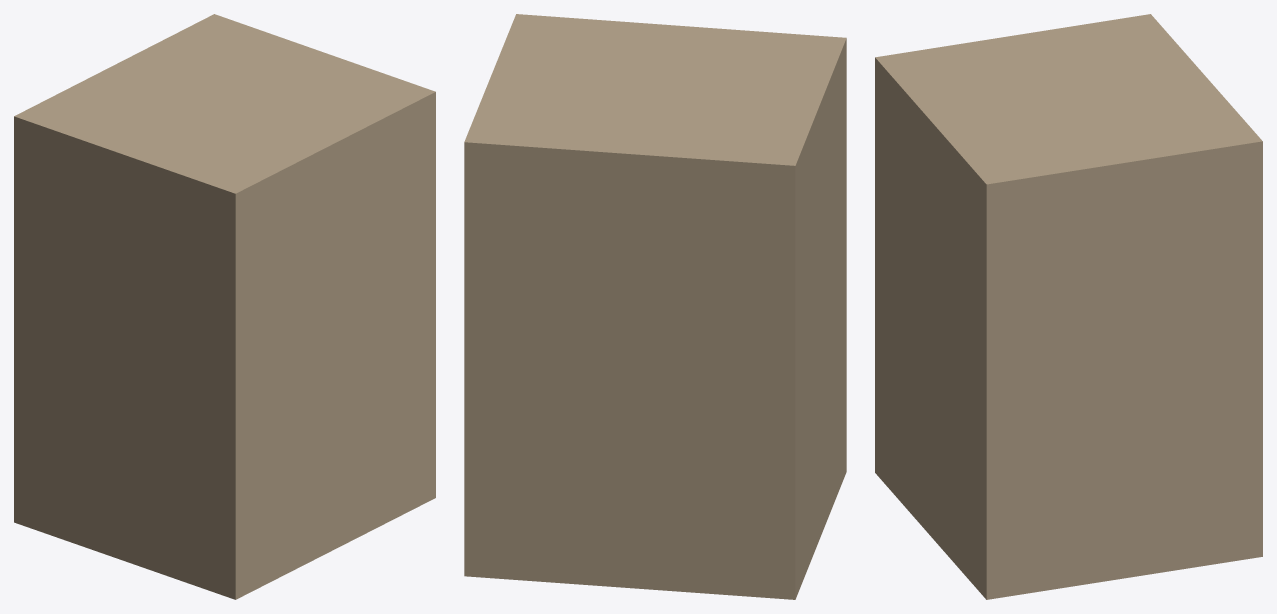
The model's file is bld_108162267.dae.
3 renders of one model, left to right at view 1: azimuth 30°, elevation 25°; view 2: azimuth 150°, elevation 25°; view 3: azimuth 270°, elevation 25°, orthographic. The views are drawn at different scales.
Parts seen in each view (by area): view 1: bld_108162267; view 2: bld_108162267; view 3: bld_108162267.
Part boxes in pixels (box(x1,y1,x2,y2)): bld_108162267: box(14, 14, 435, 599); bld_108162267: box(464, 14, 846, 599); bld_108162267: box(875, 14, 1262, 599).
Bounding box in the file's own units: 7.04 × 6.77 × 8.
